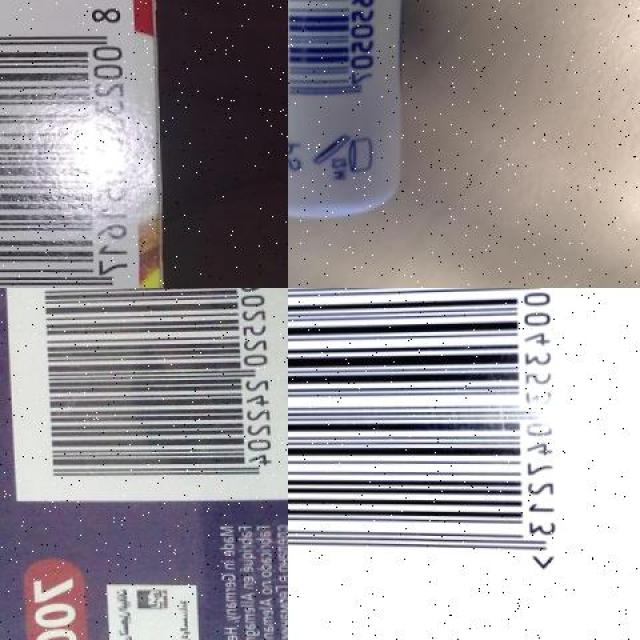Barcode: (288, 288, 575, 593), (0, 288, 288, 503), (0, 0, 135, 288), (288, 0, 389, 108)
